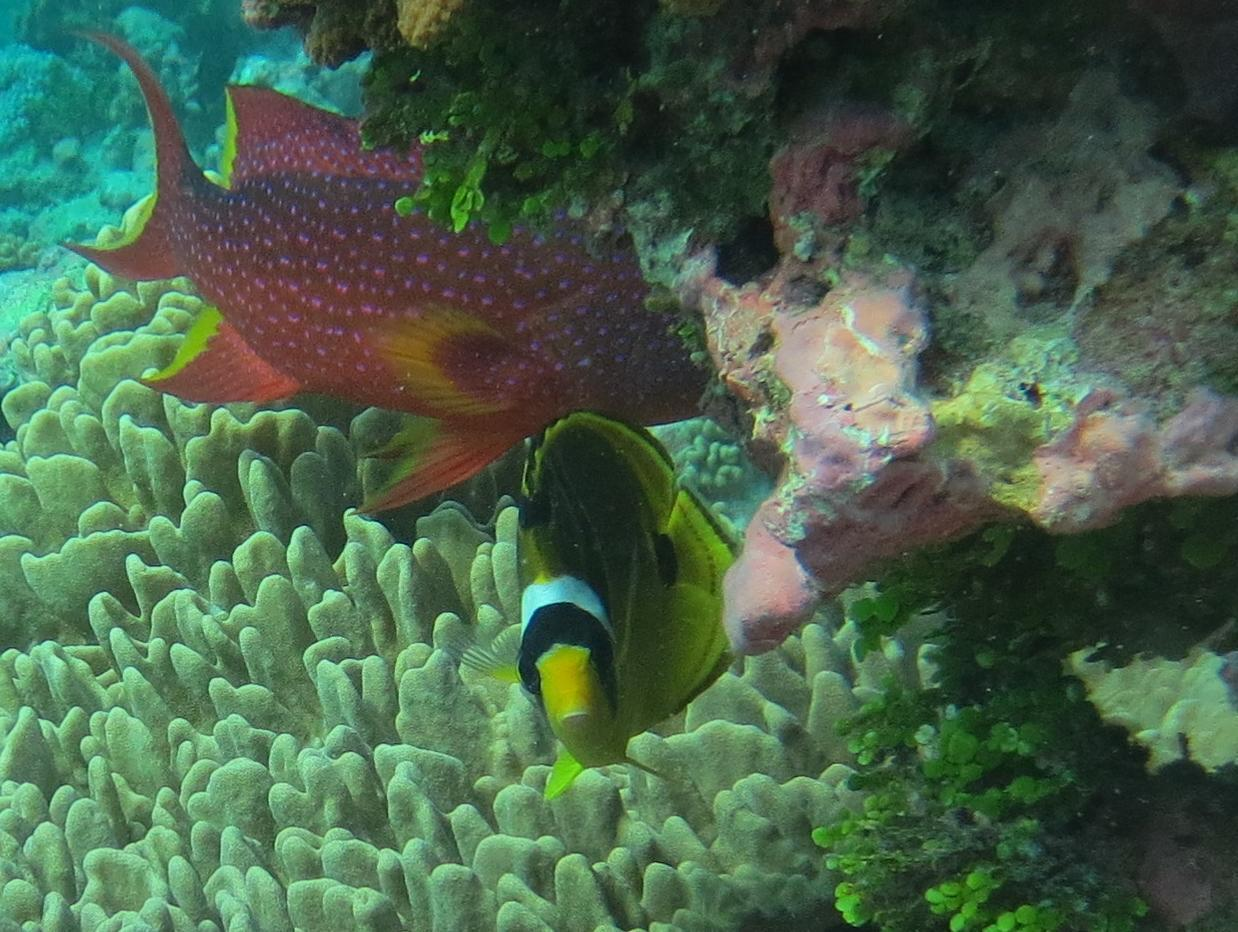Fish: (434, 394, 835, 833)
